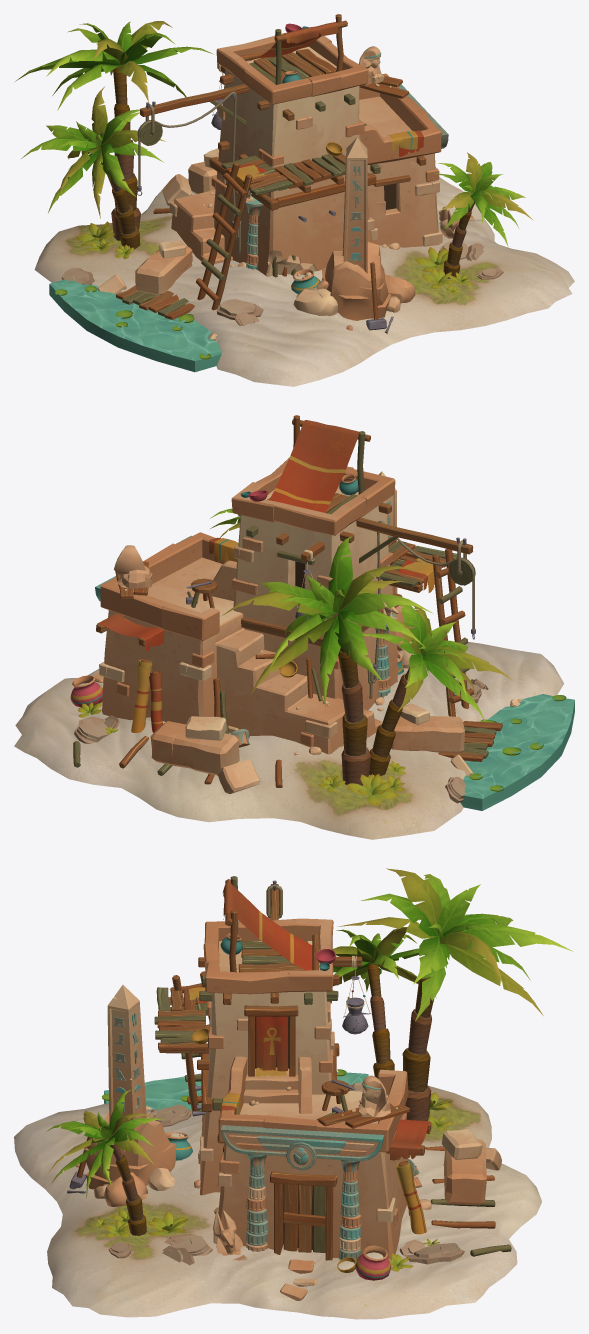
File: egyptian_shop.glb
3 views of the same model, one above another, from view 1: azimuth 30°, elevation 25°; view 2: azimuth 150°, elevation 25°; view 3: azimuth 270°, elevation 25° (orthographic). The views are drawn at different scales.
Visible parts, largest first — view 1: diorama; view 2: diorama; view 3: diorama.
Boxes of the visible parts, x1,y1,x2,y2 form: diorama: (15, 14, 574, 386); diorama: (14, 415, 574, 839); diorama: (14, 868, 573, 1319).
Bounding box in the file's own units: 803 × 478 × 798.
2 materials, 2 textured.
